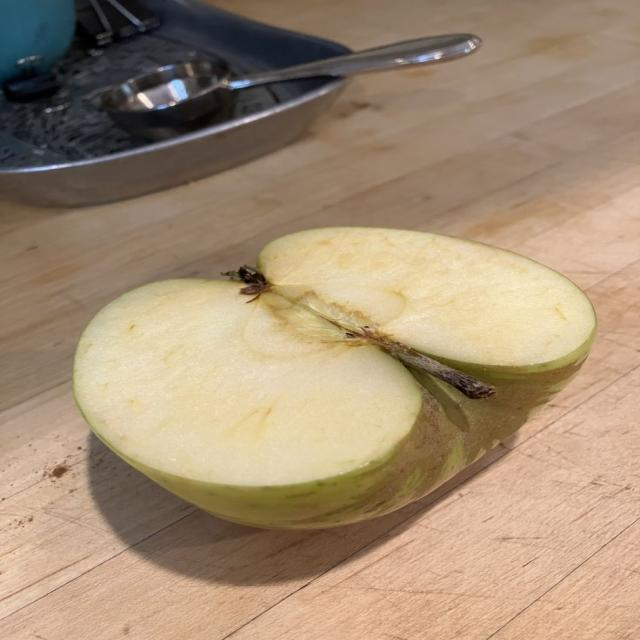apple: (74, 228, 595, 528)
